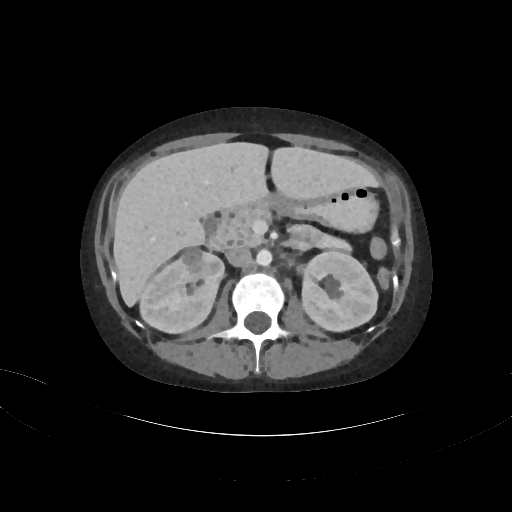Lesion: (179, 243, 207, 269)
